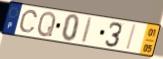0: (60, 13, 81, 43)
3: (104, 21, 124, 49)
C: (18, 9, 39, 34)
I: (80, 16, 95, 45), (124, 24, 138, 52)
Q: (36, 10, 57, 39)
